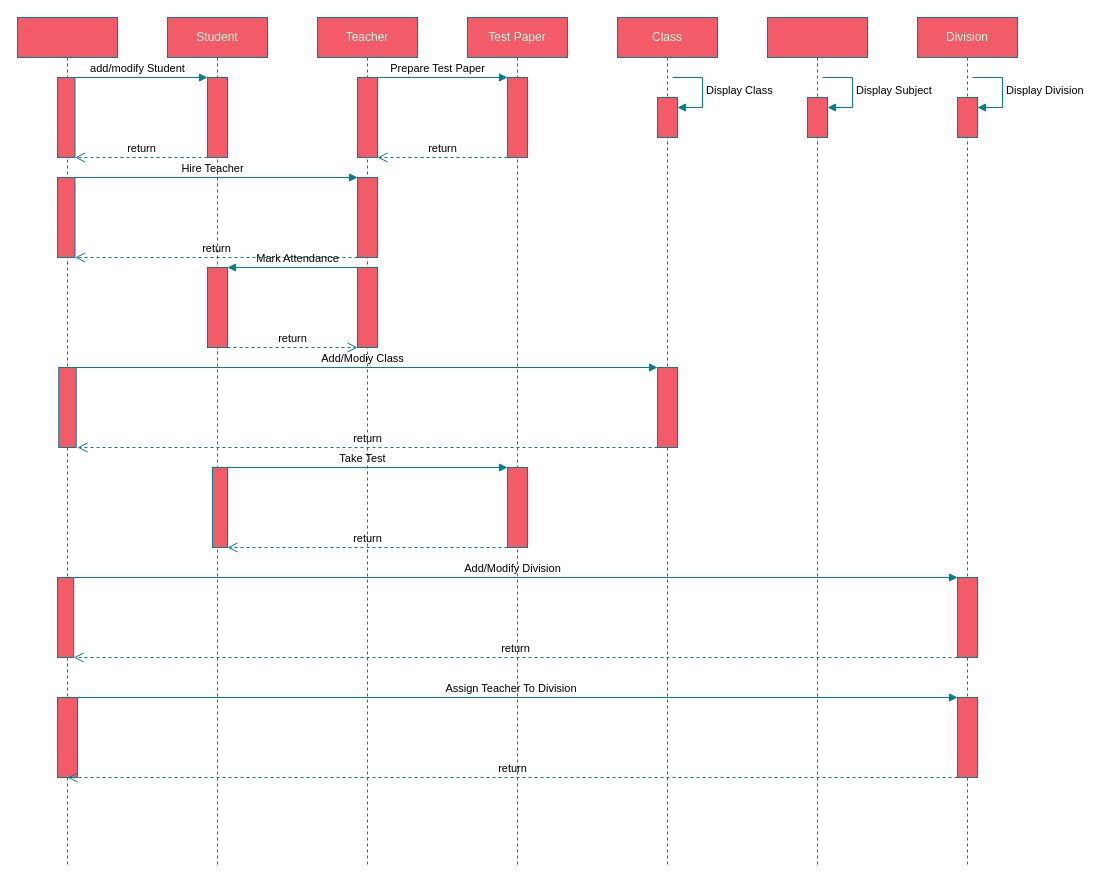
Some shapes in this 1102 by 885 pixel diagram are drawn without their labels. Here are the shapes that lost their labels. From the top down, the box of each, then its label:
(16, 16, 118, 868): Admin
(766, 16, 868, 868): Subject
